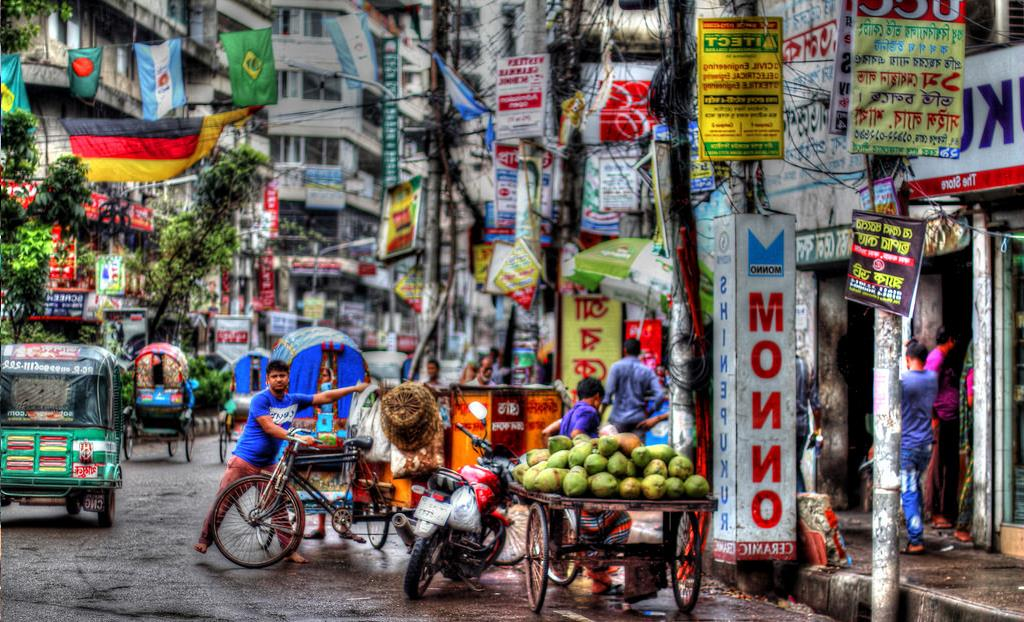Rickshaw: (257, 305, 377, 550), (122, 339, 197, 469), (225, 341, 266, 442)
